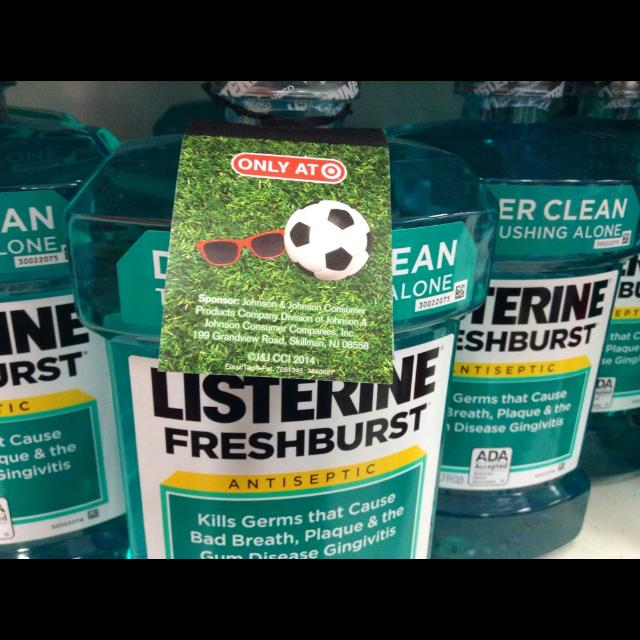Football: (283, 198, 373, 280)
